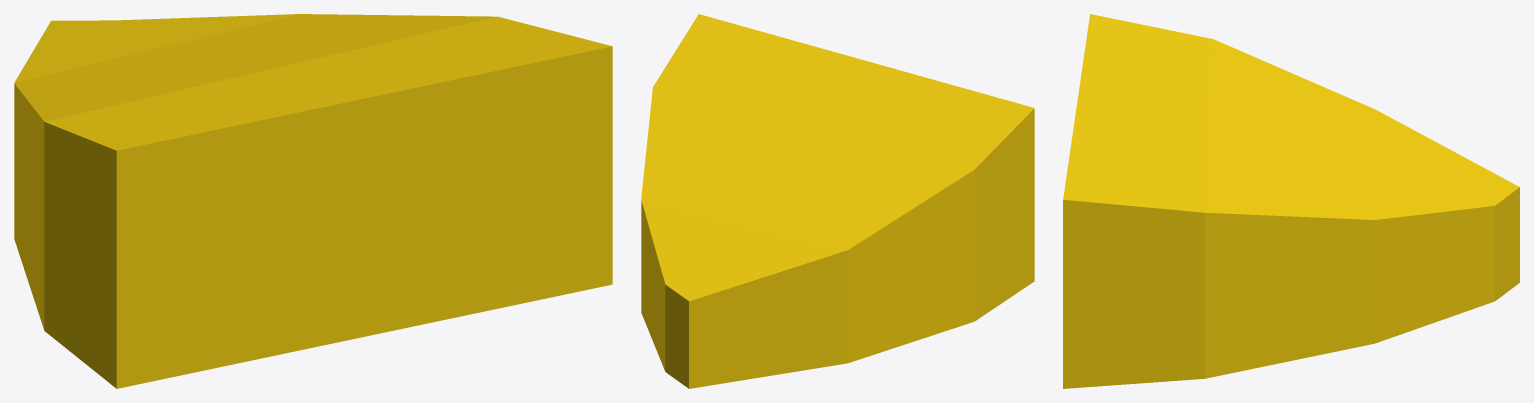
Rendered from CapsicumFlakeYellowBaked.fbx.
3 views of the same model, side by side, from view 1: azimuth 30°, elevation 25°; view 2: azimuth 150°, elevation 25°; view 3: azimuth 270°, elevation 25° (orthographic). The views are drawn at different scales.
Visible parts, largest first — view 1: CapsicumFlakeYellowBaked; view 2: CapsicumFlakeYellowBaked; view 3: CapsicumFlakeYellowBaked.
Part boxes in pixels (left/top/right/bottom): CapsicumFlakeYellowBaked: left=14, top=14, right=612, bottom=388; CapsicumFlakeYellowBaked: left=641, top=14, right=1034, bottom=388; CapsicumFlakeYellowBaked: left=1063, top=14, right=1519, bottom=388.
Bounding box in the file's own units: 3.05 × 1.45 × 3.17.
